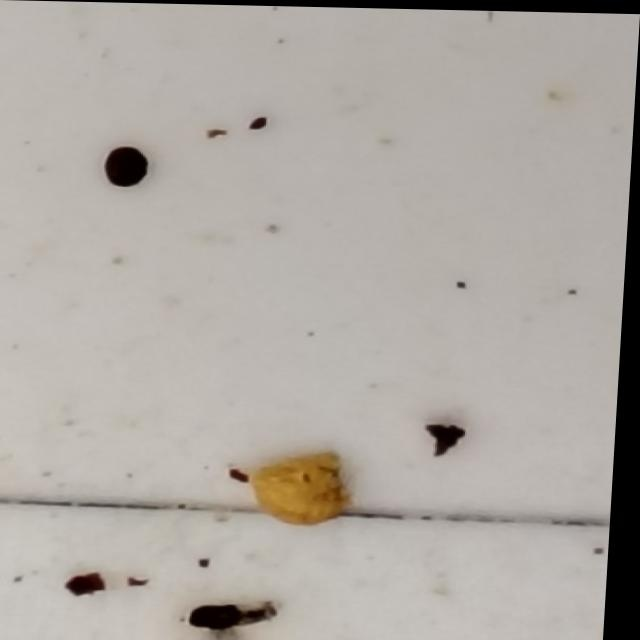varroa: (105, 147, 158, 194)
